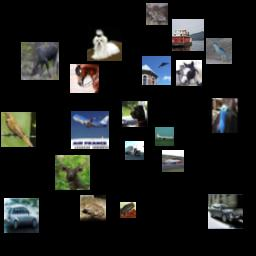airplane: (71, 111, 109, 149), (142, 56, 171, 85), (162, 150, 184, 172), (155, 127, 174, 146)
automobile: (4, 198, 39, 233), (208, 194, 243, 229)
bird: (1, 112, 36, 147), (207, 98, 242, 133), (206, 38, 232, 64)
deer: (21, 42, 59, 80), (55, 155, 90, 190)
dog: (87, 26, 122, 61), (122, 101, 148, 127)
frog: (80, 195, 106, 221), (146, 3, 168, 25), (120, 202, 136, 218)
ship: (172, 19, 204, 51)
truck: (125, 141, 144, 160)
